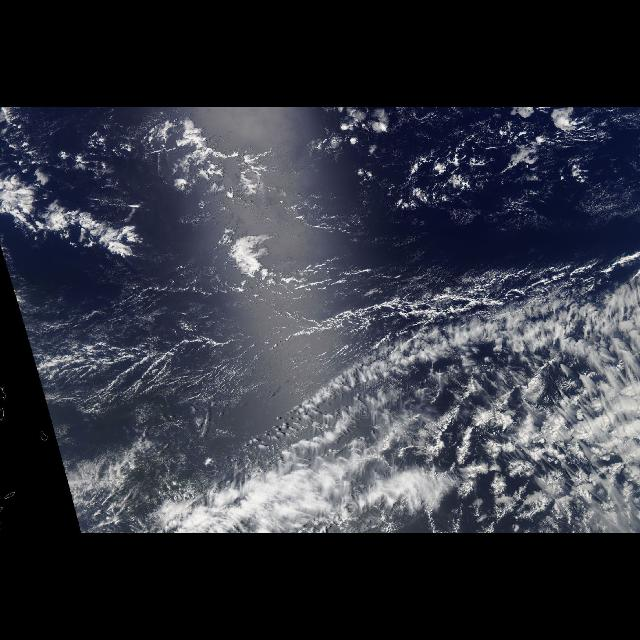Fish: (2, 258, 640, 534)
Gravel: (359, 118, 547, 235)
